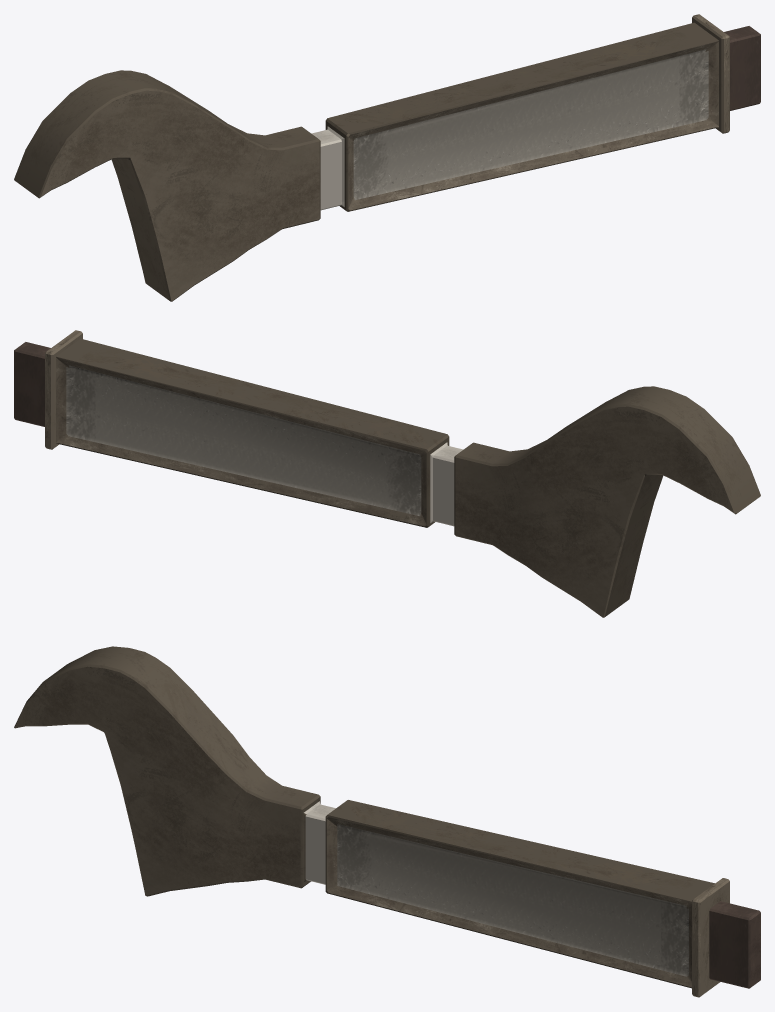
Rendered from Wrench2.fbx.
3 renders of one model, top to bottom at view 1: azimuth 30°, elevation 25°; view 2: azimuth 150°, elevation 25°; view 3: azimuth 330°, elevation 25°, orthographic.
Parts seen in each view (by area): view 1: Cube; view 2: Cube; view 3: Cube.
Part boxes in pixels (box(x1,y1,x2,y2)): Cube: box(14, 14, 760, 301); Cube: box(14, 330, 760, 617); Cube: box(14, 646, 760, 997).
Size of the model in its own units: 240 by 69.32 by 17.69.
